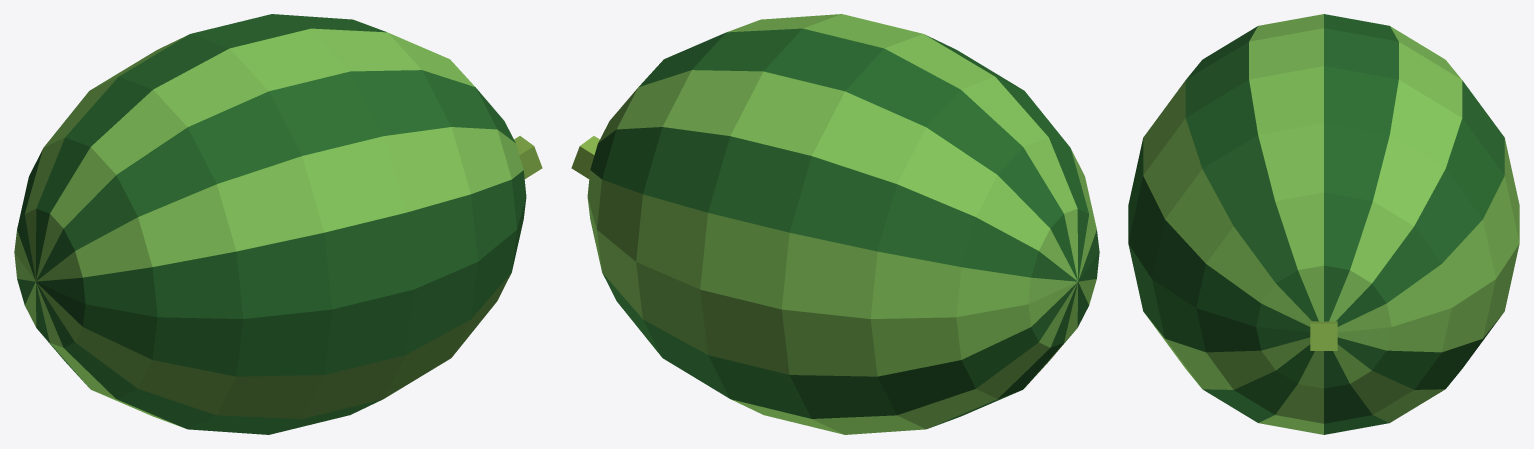
The model's file is watermelon_item.obj.
The picture shows the model from 3 angles, left to right: view 1: azimuth 30°, elevation 25°; view 2: azimuth 150°, elevation 25°; view 3: azimuth 270°, elevation 25°; orthographic projection. The views are drawn at different scales.
Parts seen in each view (by area): view 1: item; view 2: item; view 3: item.
Part boxes in pixels (x1,y1,x2,y2): item: (14,14,542,434); item: (571,14,1099,434); item: (1128,14,1519,434).
Size of the model in its own units: 0.6093 by 0.4334 by 0.4334.
